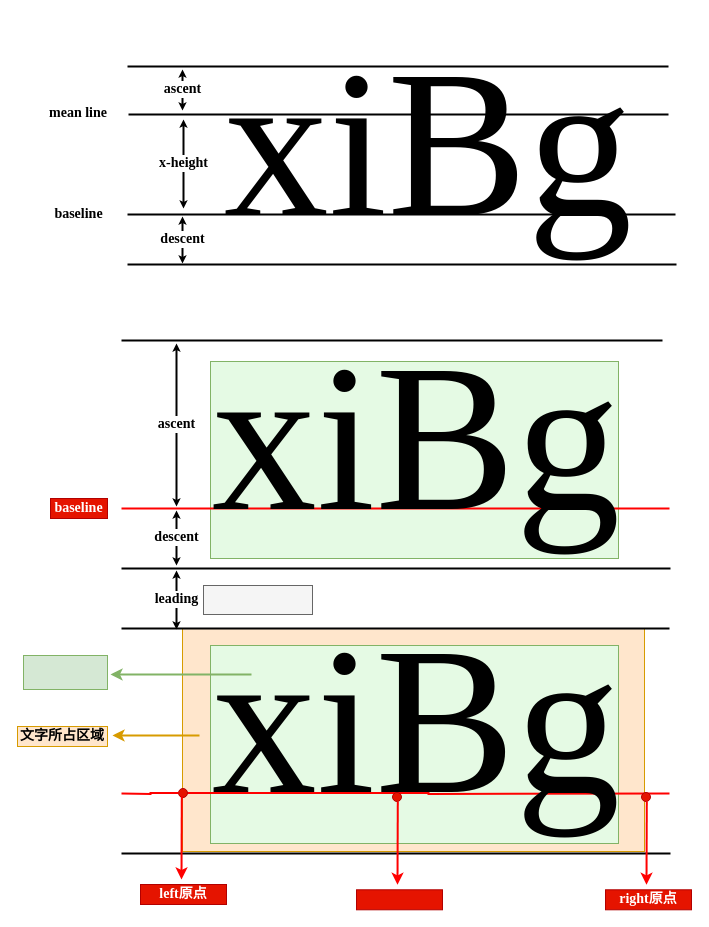
This 709x927 diagram has some shape labels left out. The centre of each missing label's shape, as x and y in pixels:
center原点: pixel 399 899
descent底部到ascent顶部的距离: pixel 257 599
文字可视部分实际区域: pixel 65 672
